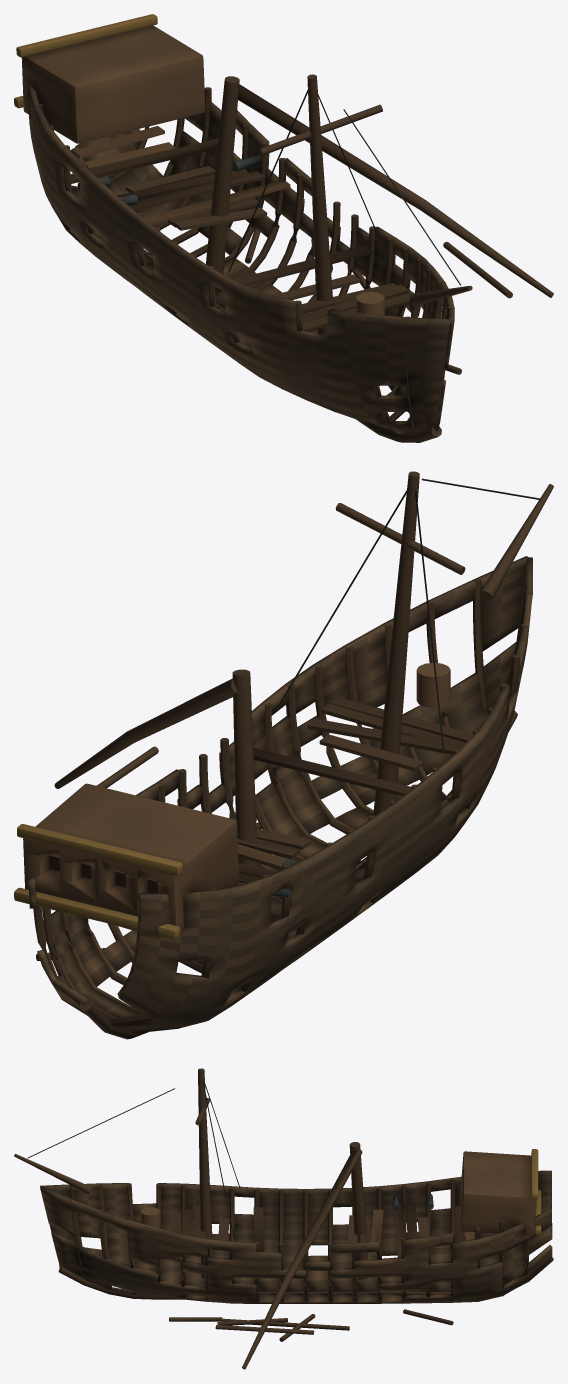
The model's file is verena.glb.
3 views of the same model, one above another, from view 1: azimuth 30°, elevation 25°; view 2: azimuth 150°, elevation 25°; view 3: azimuth 270°, elevation 25° (orthographic). The views are drawn at different scales.
Parts seen in each view (by area): view 1: verena; view 2: verena; view 3: verena.
Boxes of the visible parts, x1=… form: verena: x1=14, y1=14, x2=553, y2=442; verena: x1=14, y1=471, x2=553, y2=1039; verena: x1=14, y1=1068, x2=553, y2=1369.
Size of the model in its own units: 16.2 by 15.07 by 33.02.
